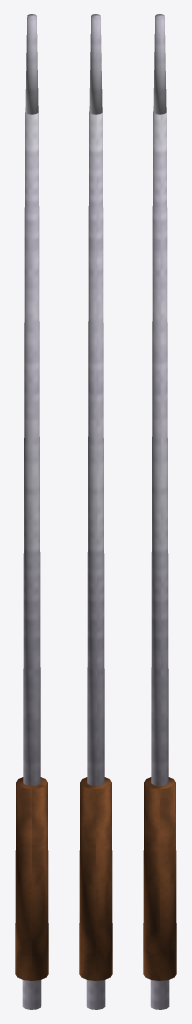
The model's file is blowpipe.glb.
3 views of the same model, side by side, from view 1: azimuth 30°, elevation 25°; view 2: azimuth 150°, elevation 25°; view 3: azimuth 330°, elevation 25° (orthographic).
Parts seen in each view (by area): view 1: BlowpipeTube, BlowpipeGrip; view 2: BlowpipeTube, BlowpipeGrip; view 3: BlowpipeTube, BlowpipeGrip.
Boxes of the visible parts, x1,y1,x2,y2 form: BlowpipeTube: (22,14,41,1009); BlowpipeGrip: (15,777,48,980); BlowpipeTube: (86,14,105,1009); BlowpipeGrip: (79,777,112,980); BlowpipeTube: (150,14,169,1009); BlowpipeGrip: (143,777,176,980).
Size of the model in its own units: 0.019 by 0.62 by 0.019.
2 materials, 2 textured.
